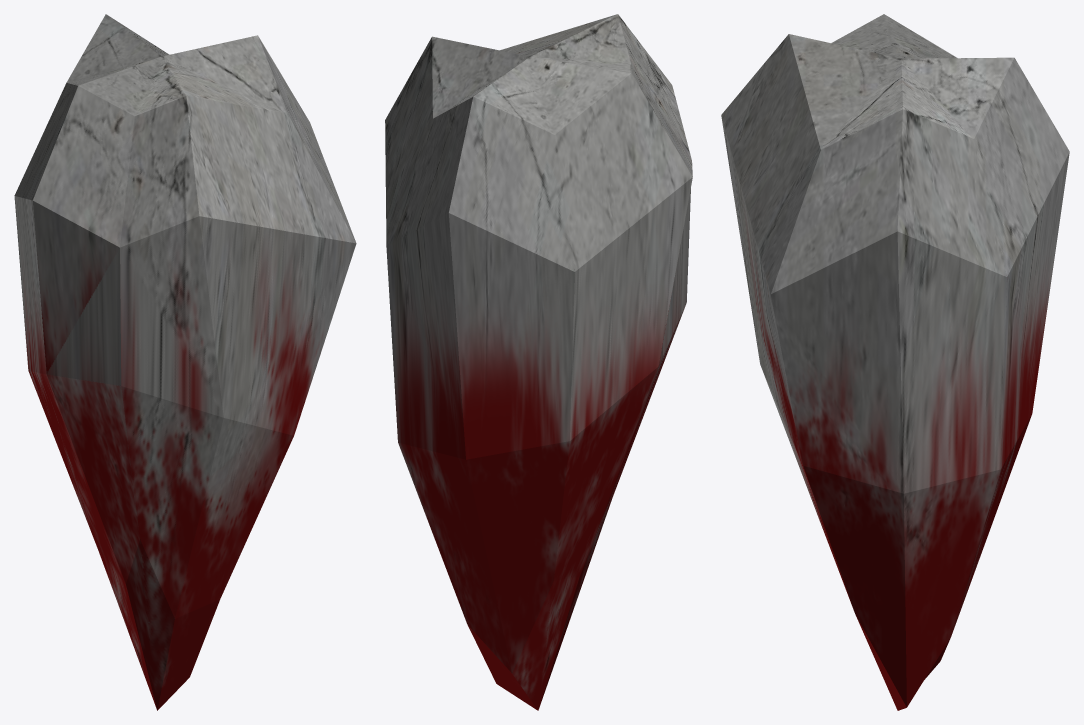
Rendered from Arrow.fbx.
The picture shows the model from 3 angles, left to right: view 1: azimuth 30°, elevation 25°; view 2: azimuth 150°, elevation 25°; view 3: azimuth 270°, elevation 25°; orthographic projection.
Visible parts, largest first — view 1: Arrow; view 2: Arrow; view 3: Arrow.
Part boxes in pixels (bbox=[...]): Arrow: bbox=[14, 14, 356, 710]; Arrow: bbox=[385, 14, 692, 710]; Arrow: bbox=[721, 14, 1069, 710].
Size of the model in its own units: 134 by 289 by 137.
Materials: 1 (1 with a texture image).
